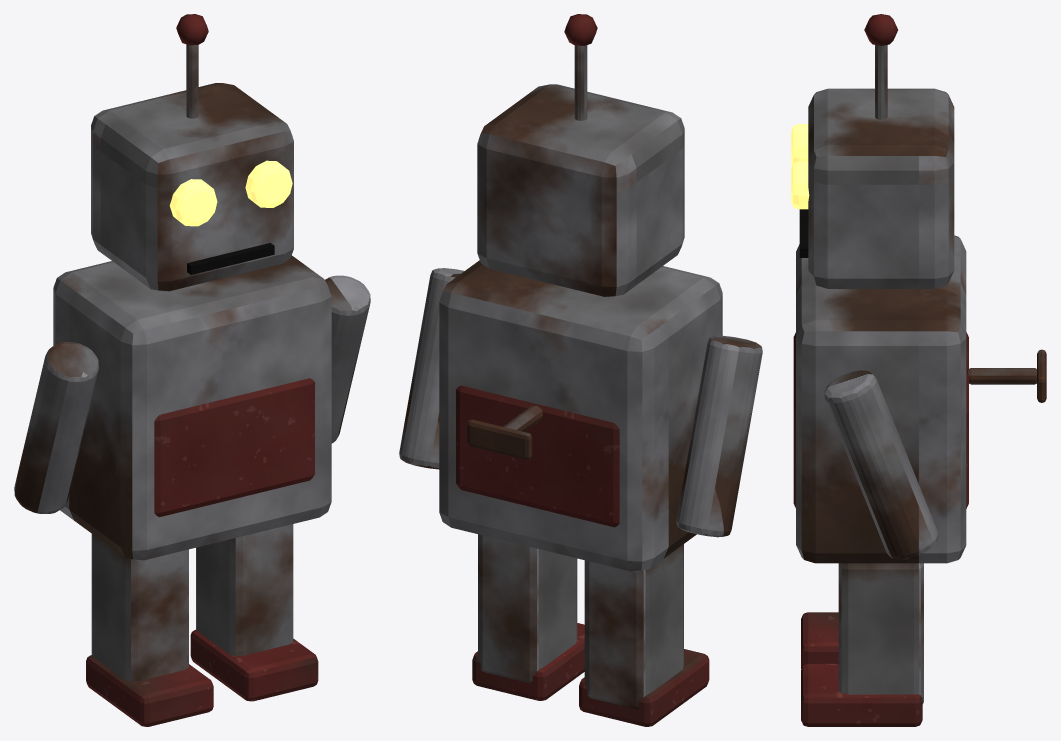
The model's file is T03_windup_tin_robot.glb.
The picture shows the model from 3 angles, left to right: view 1: azimuth 30°, elevation 25°; view 2: azimuth 150°, elevation 25°; view 3: azimuth 270°, elevation 25°; orthographic projection. The views are drawn at different scales.
Parts seen in each view (by area): view 1: T03_windup_tin_robot; view 2: T03_windup_tin_robot; view 3: T03_windup_tin_robot.
Part boxes in pixels (x1,y1,x2,y2): T03_windup_tin_robot: (14,14,370,726); T03_windup_tin_robot: (399,14,762,726); T03_windup_tin_robot: (791,14,1046,726).
Bounding box in the file's own units: 0.1506 × 0.3 × 0.1034.
5 materials, 5 textured.
